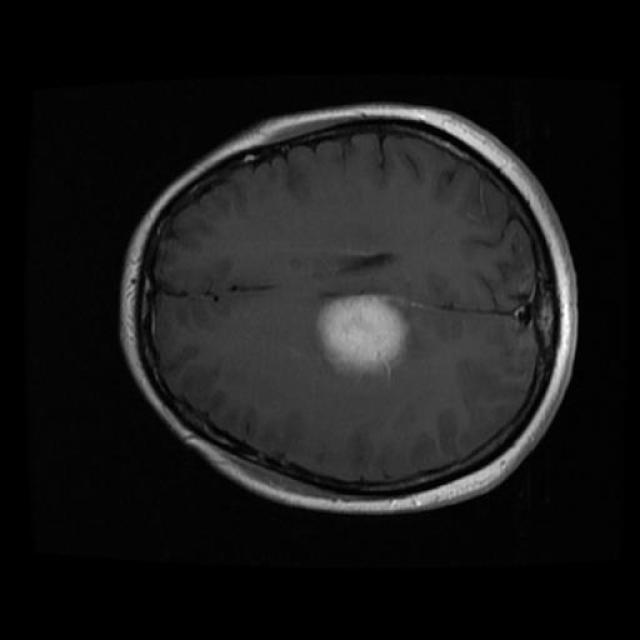Meningioma: (317, 296, 408, 375)
